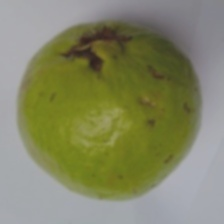guava: (17, 9, 169, 188)
